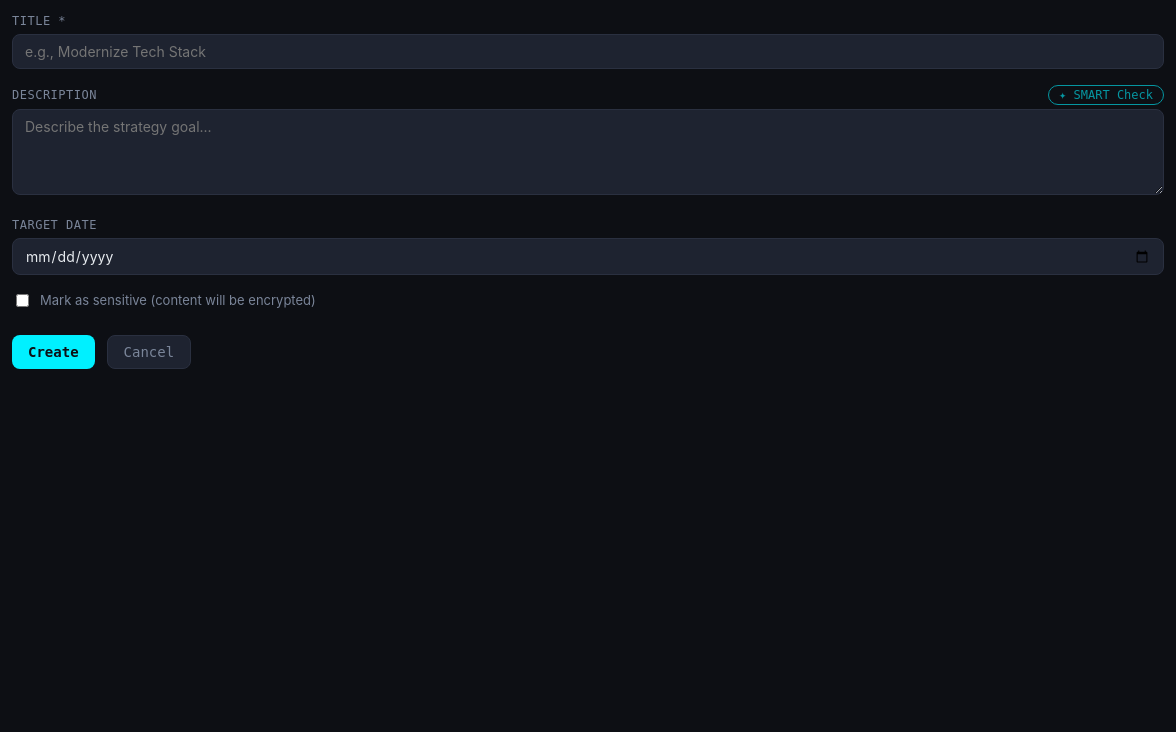
Test: StrategyGoalForm › should apply AI suggestion with structured format
This screenshot has width=1176, height=732.
In the field labelled "Title *": (588, 52) [12,34,1164,69], type "Improve tech"
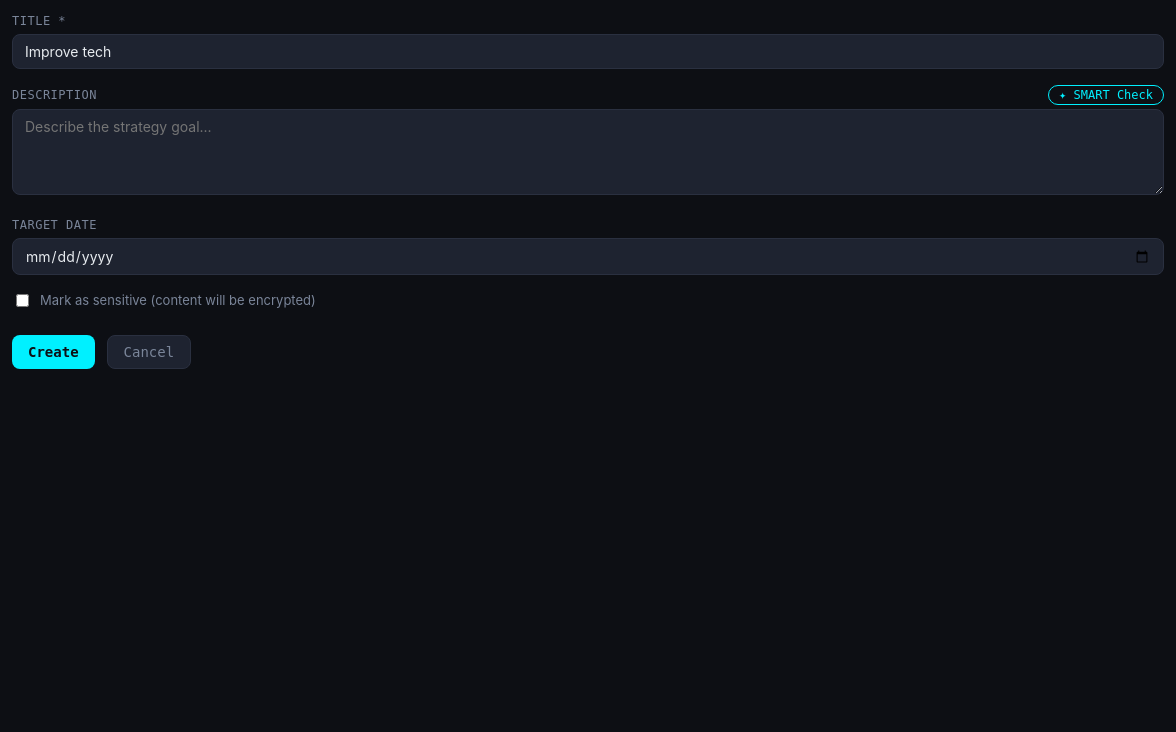
Click the button with test id "strategy-goal-smart-check-btn": click(1106, 95) [1048,85,1164,105]
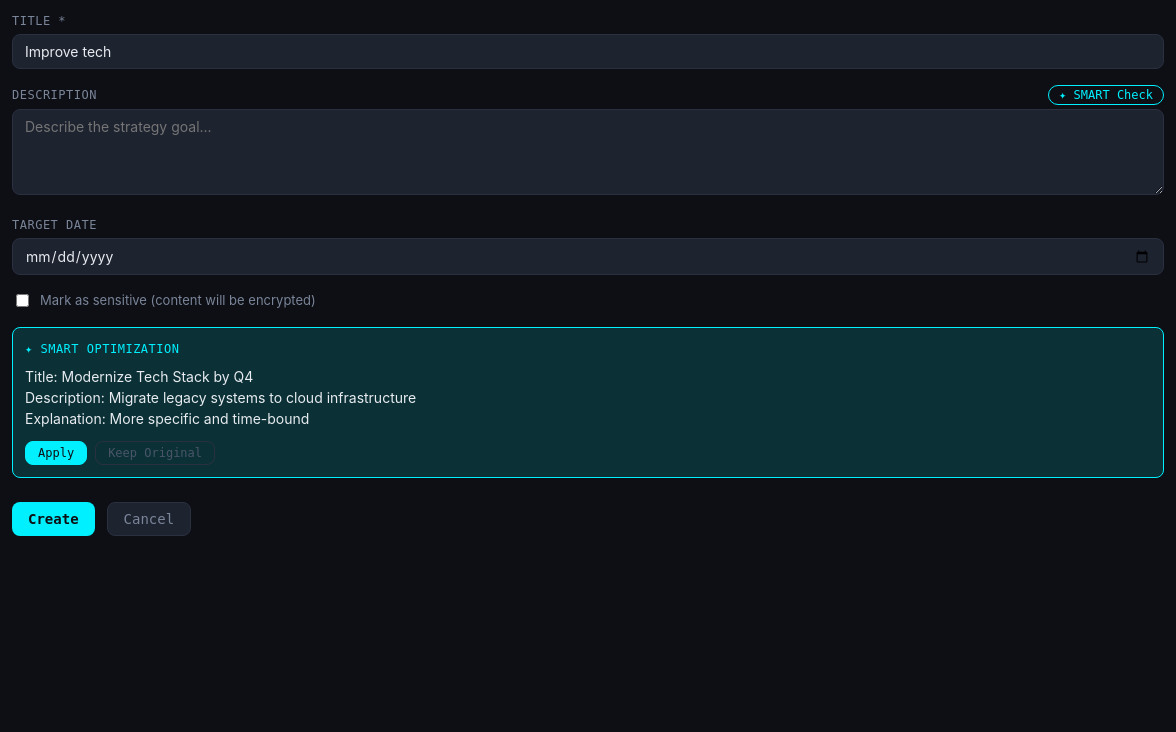
Check: the element with test id "strategy-goal-ai-comparison" is shown, box [12,326,1164,478]
Click the button with test id "strategy-goal-ai-apply-btn": click(56, 452) [25,440,87,464]
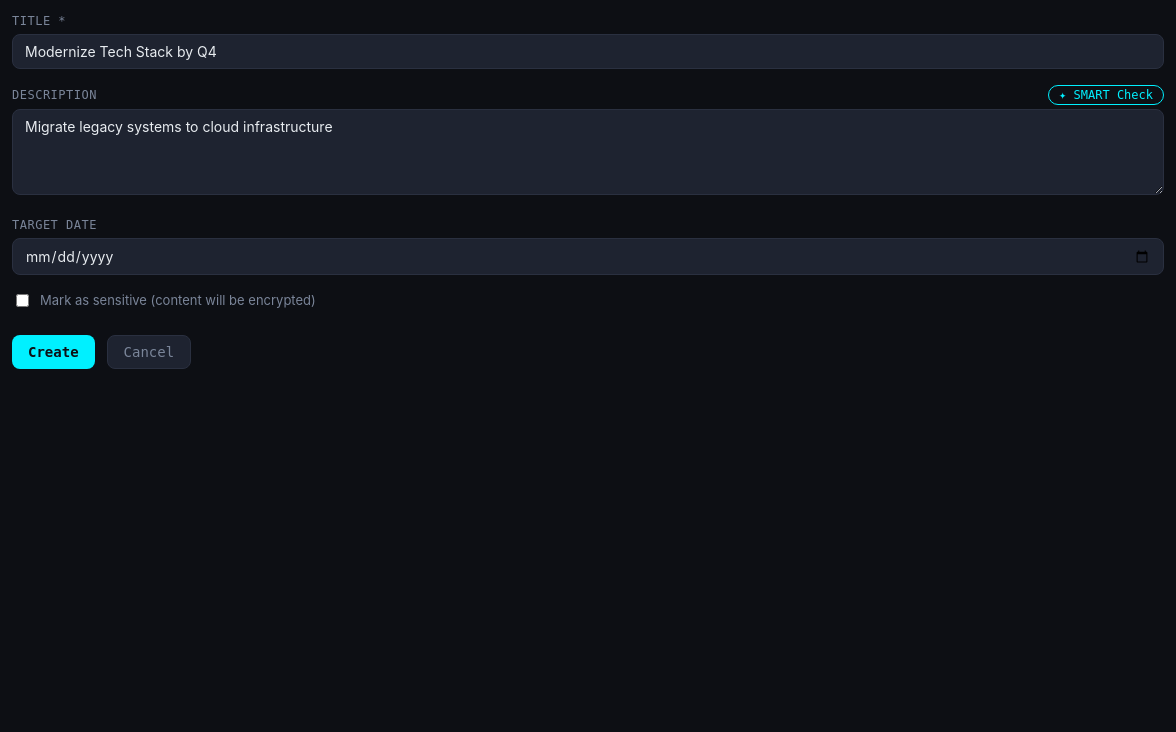
Check: the field labelled "Title *" holds "Modernize Tech Stack by Q4", box [12,34,1164,69]
Check: the text box labelled "Description" holds "Migrate legacy systems to cloud infrastructure", box [12,109,1164,195]
